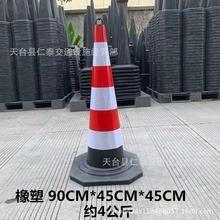cone_barrel: (82, 24, 126, 175)
